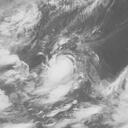cyclone: (33, 43, 85, 95)
